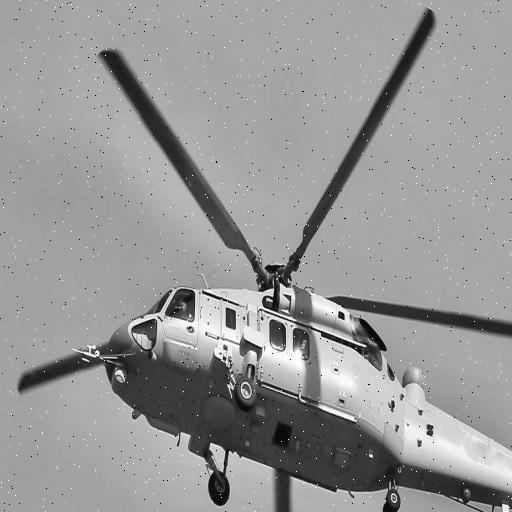helicopter: (12, 16, 512, 512)
